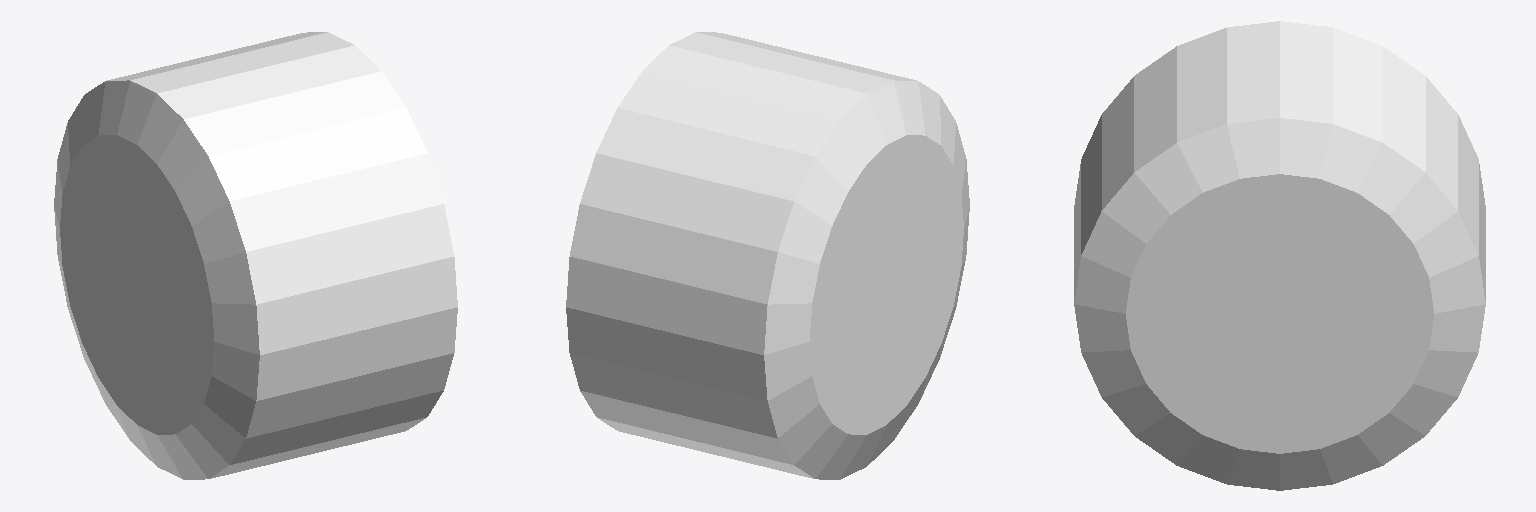
The model's file is wheel_rear.obj.
The picture shows the model from 3 angles: view 1: azimuth 30°, elevation 25°; view 2: azimuth 150°, elevation 25°; view 3: azimuth 270°, elevation 25°; orthographic projection.
Parts seen in each view (by area): view 1: wheel_rear_left; view 2: wheel_rear_left; view 3: wheel_rear_left.
Part boxes in pixels (x1,y1,x2,y2): wheel_rear_left: (54,32,457,479); wheel_rear_left: (566,32,969,479); wheel_rear_left: (1074,21,1485,490).
Bounding box in the file's own units: 7.2 × 10.8 × 10.8.